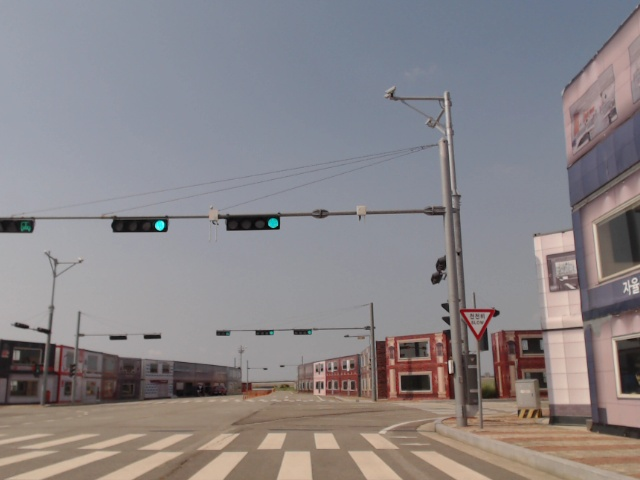straight_green_4: (226, 213, 282, 231), (111, 217, 169, 233), (255, 329, 275, 336), (293, 329, 313, 335)
